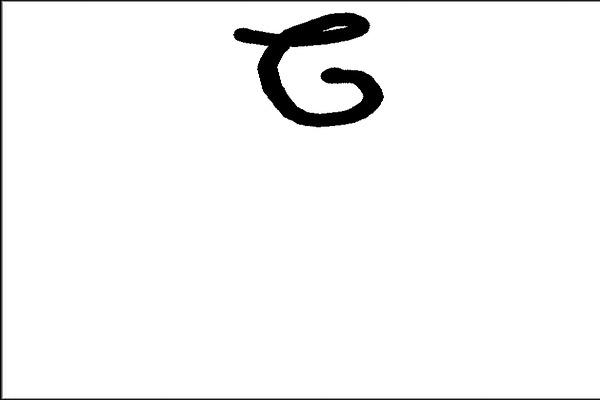C: (228, 8, 385, 132)
